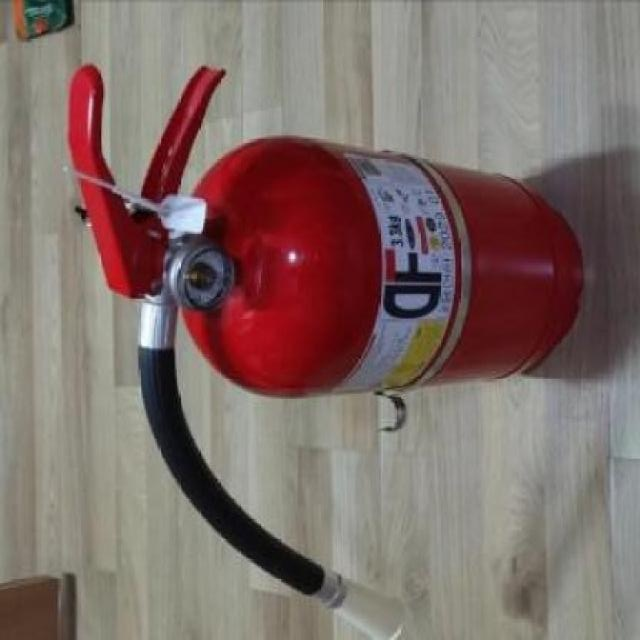fire extinguisher: (65, 62, 583, 640)
